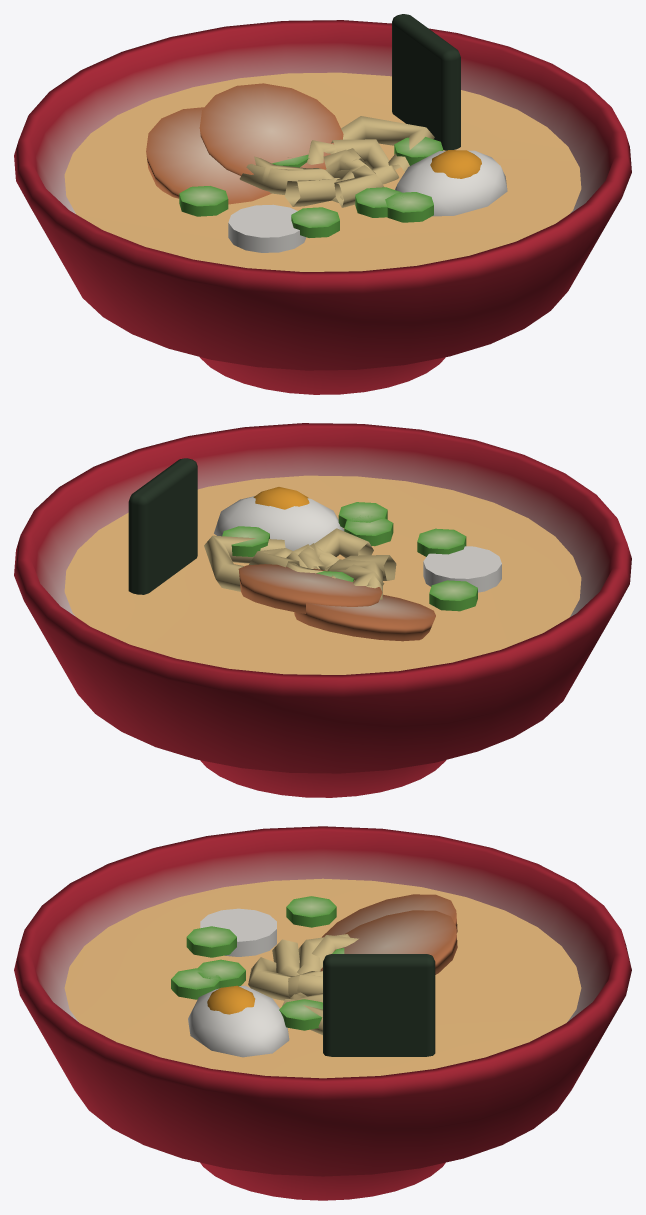
The model's file is item_dish_ramen.glb.
3 views of the same model, one above another, from view 1: azimuth 30°, elevation 25°; view 2: azimuth 150°, elevation 25°; view 3: azimuth 270°, elevation 25° (orthographic).
Visible parts, largest first — view 1: item_dish_ramen_main, item_dish_ramen_gloss; view 2: item_dish_ramen_main, item_dish_ramen_gloss; view 3: item_dish_ramen_main, item_dish_ramen_gloss.
Boxes of the visible parts, left/top/right/bottom form: item_dish_ramen_main: left=14, top=14, right=631, bottom=394; item_dish_ramen_gloss: left=64, top=72, right=581, bottom=271; item_dish_ramen_main: left=14, top=423, right=631, bottom=797; item_dish_ramen_gloss: left=64, top=475, right=581, bottom=674; item_dish_ramen_main: left=14, top=826, right=631, bottom=1200; item_dish_ramen_gloss: left=64, top=878, right=581, bottom=1078.
Bounding box in the file's own units: 0.22 × 0.1 × 0.22.
